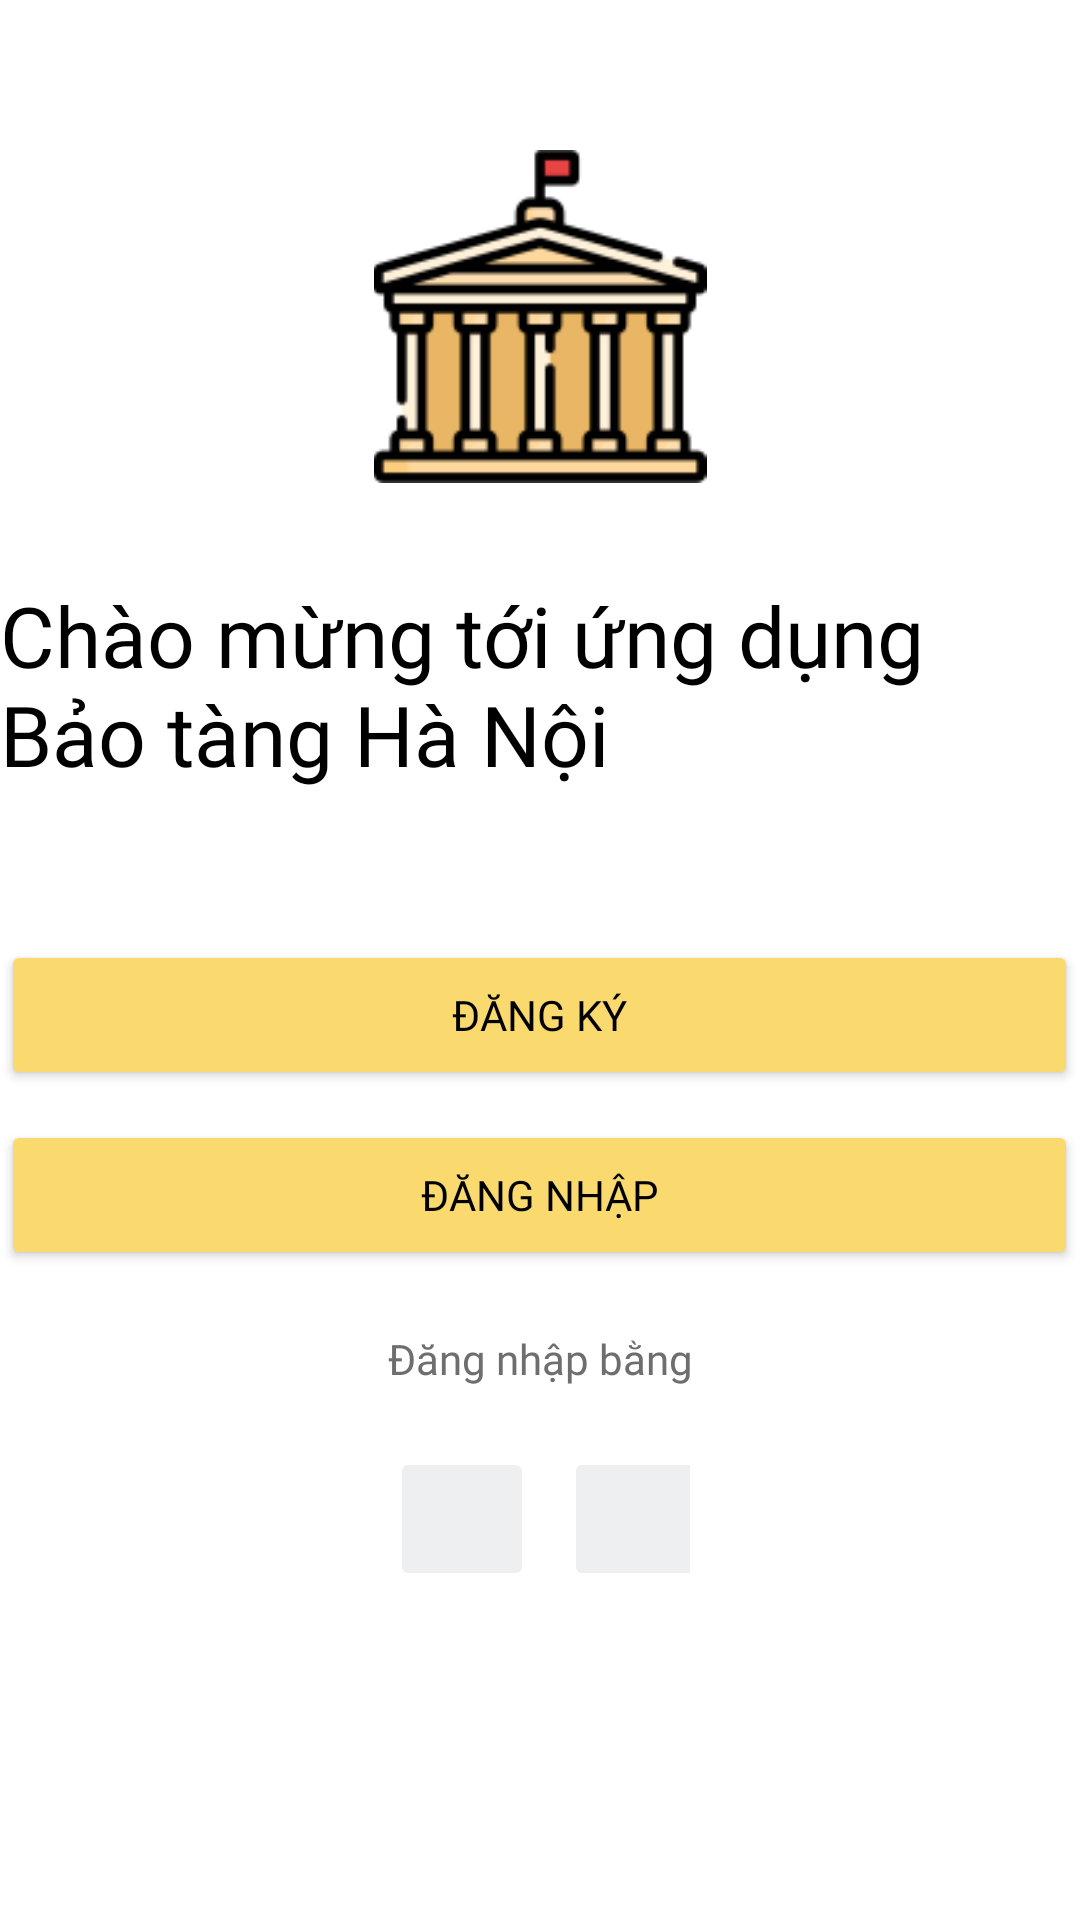

Icons on this 1080 × 1920 Android screen, each with its box as {"x1": x1, "y1": y1, "x2": x2, "y2": y2}:
museum: {"x1": 374, "y1": 150, "x2": 707, "y2": 483}
